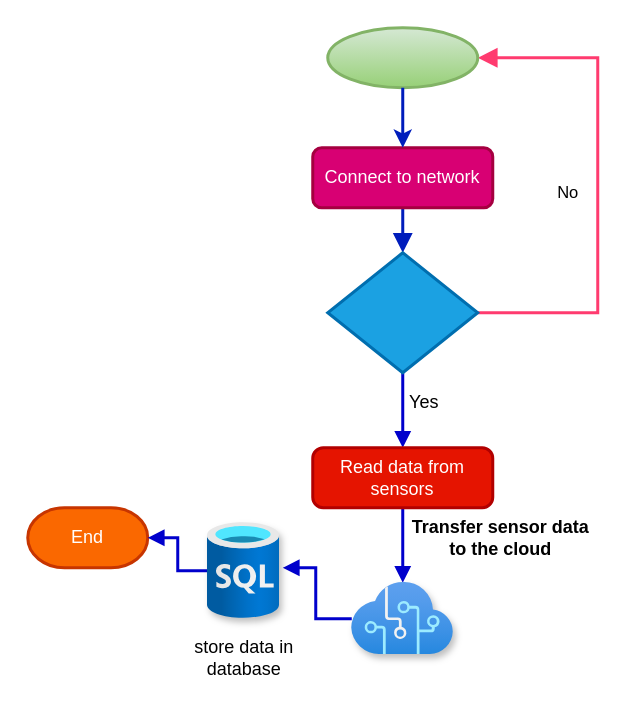
Some shapes in this 639 by 705 pixel diagram are drawn without their labels. Each missing label, with the centre of its shape:
Network connected: the point at 402,312
START: the point at 402,57
